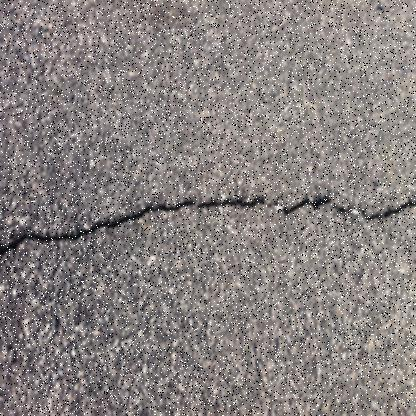Cracks: (0, 180, 415, 260)
